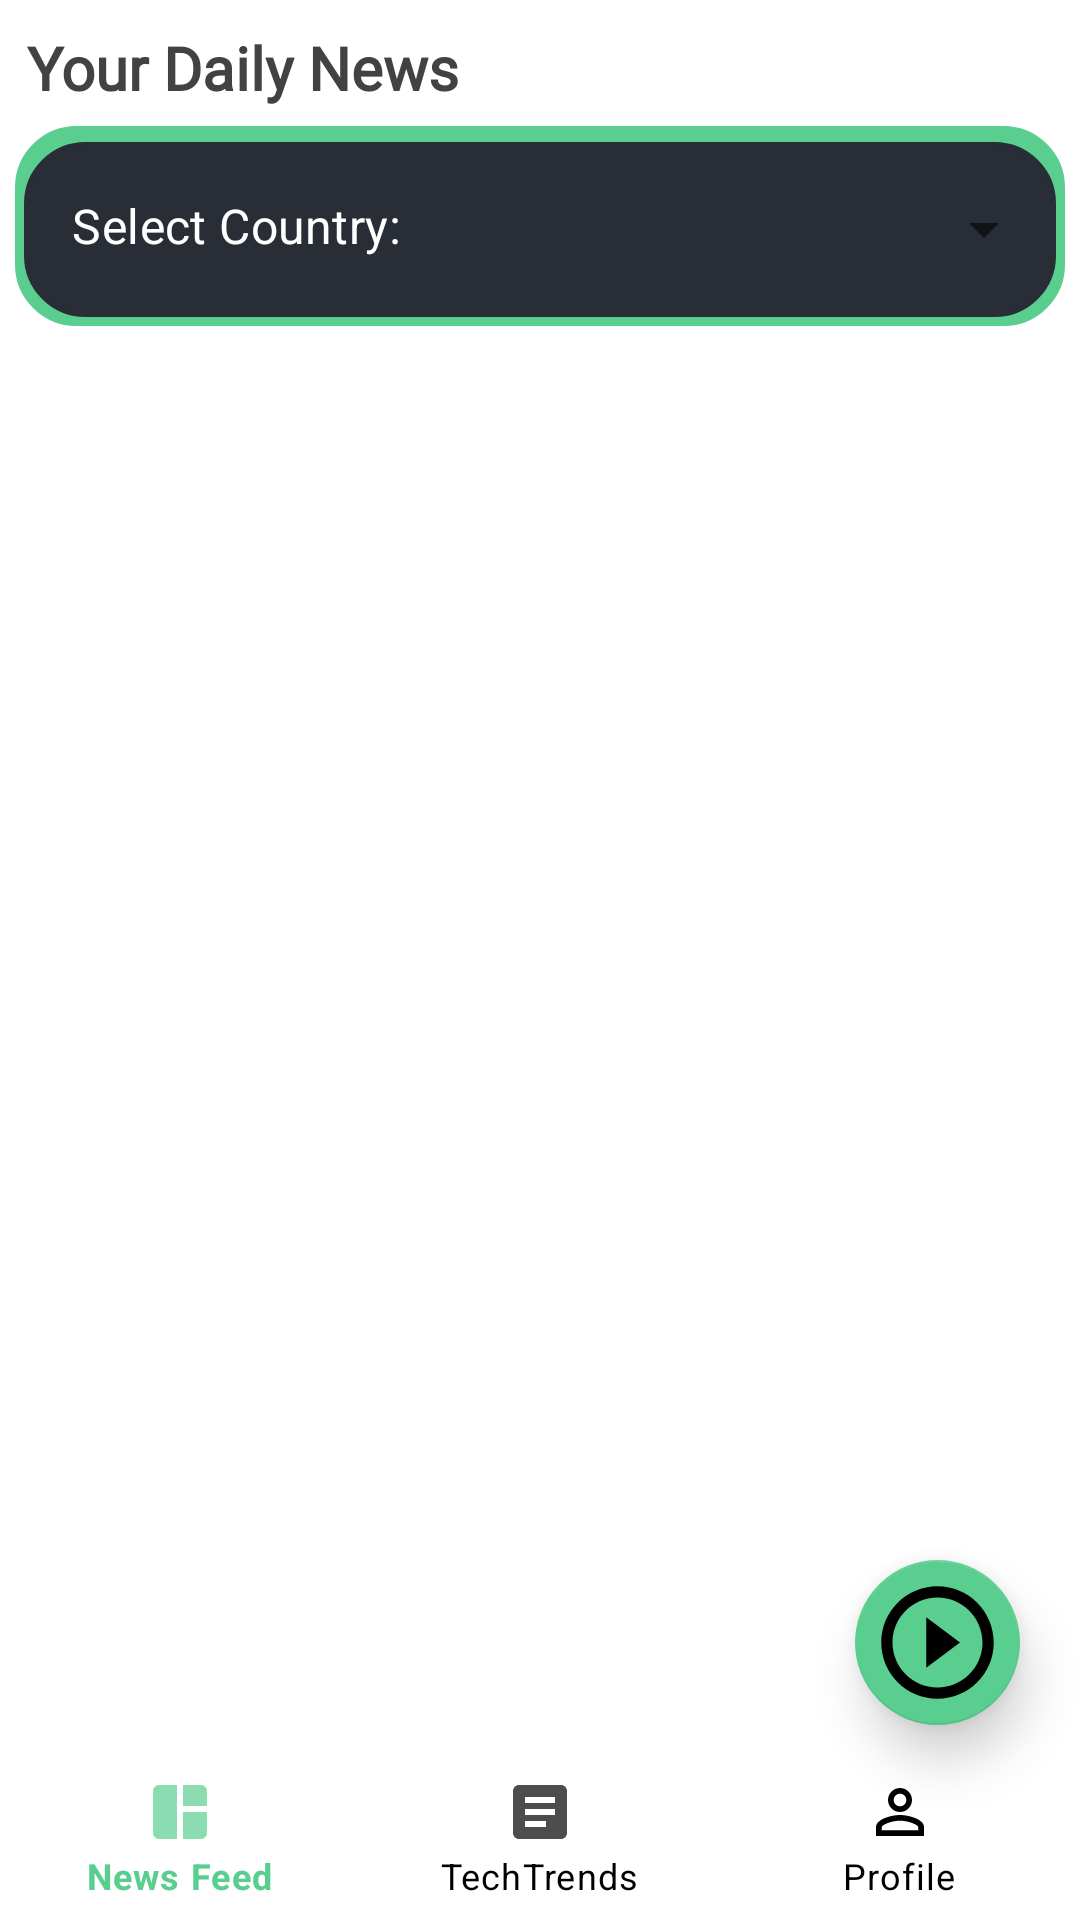

Icon click points for this 1080px×1920px phone screenshot, format (x,y):
READBYVOICE: (937,1642)
